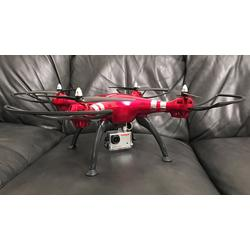drone: (1, 83, 246, 178)
